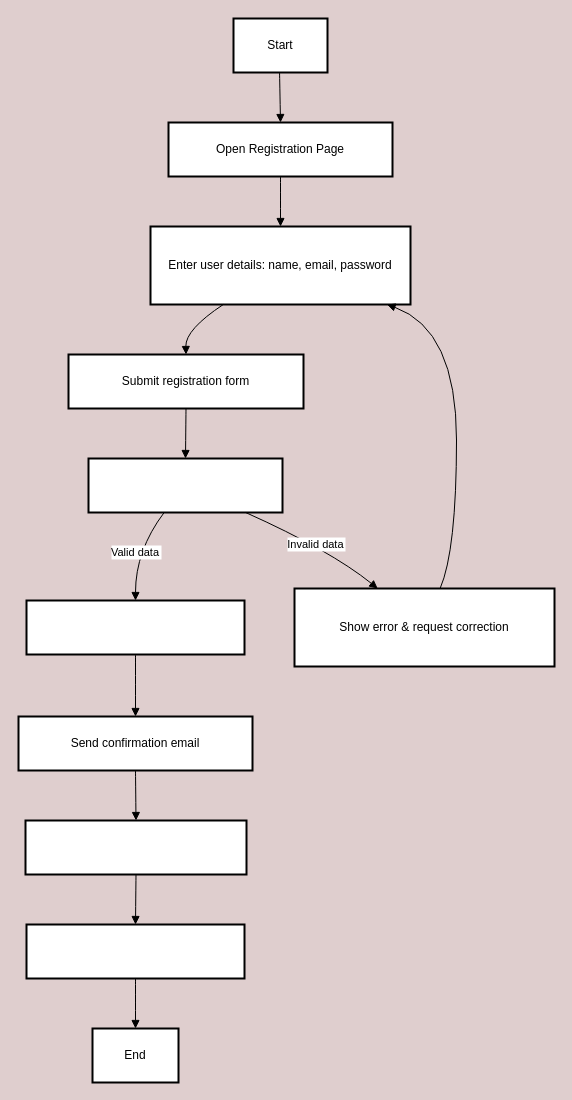
The diagram is 572 pixels wide and 1100 high, and some of its shapes have lost their labels. The box of each missing label's shape, as (x1, y1, x2, y2) in pixels:
Registration successful: (25, 923, 245, 979)
Store user in database: (25, 599, 245, 655)
User activates account: (24, 819, 247, 875)
Validate input data: (87, 457, 283, 513)
